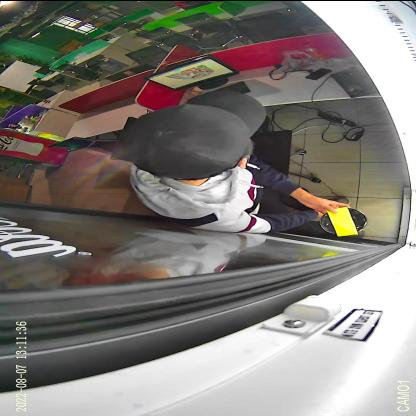yellow: (320, 205, 368, 236)
